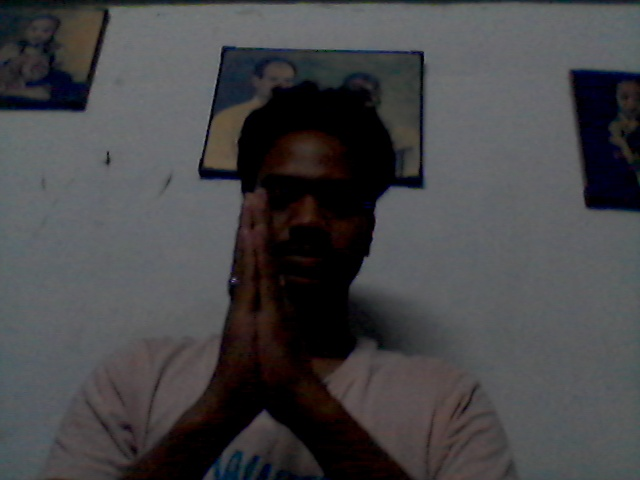Namasthe: (217, 185, 313, 431)
